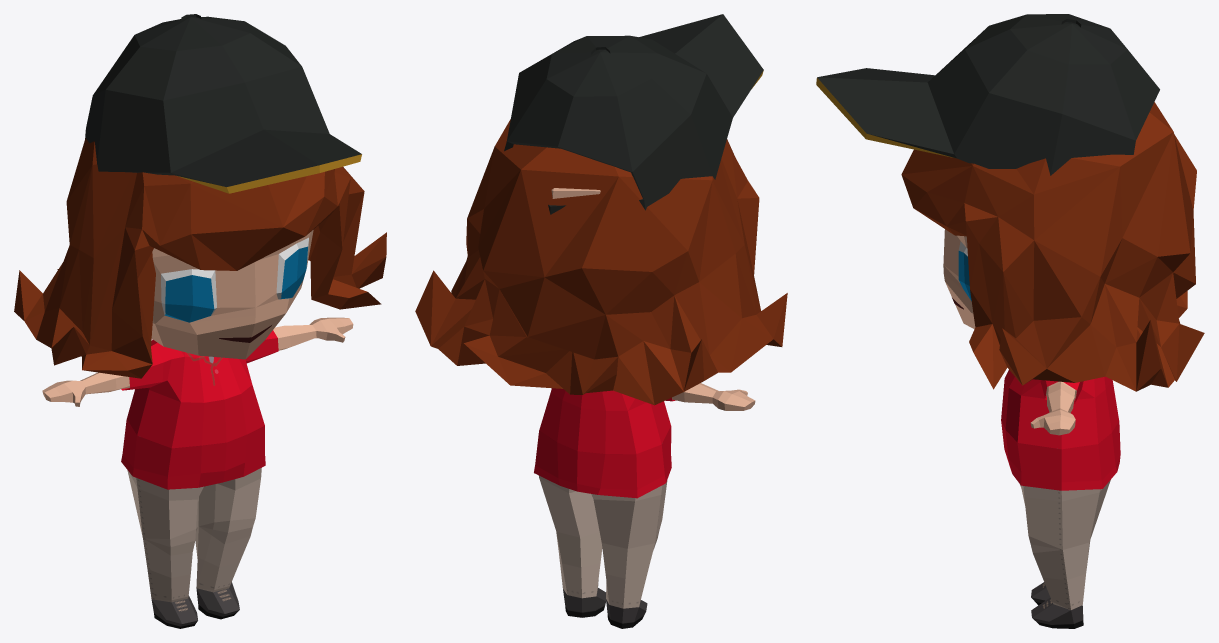
Rendered from Woman_Idle.fbx.
3 views of the same model, side by side, from view 1: azimuth 30°, elevation 25°; view 2: azimuth 150°, elevation 25°; view 3: azimuth 270°, elevation 25° (orthographic). The views are drawn at different scales.
Parts seen in each view (by area): view 1: Woman_hair, Woman_baseball_cap, Woman_clothing, Woman_body; view 2: Woman_hair, Woman_baseball_cap, Woman_clothing, Woman_body; view 3: Woman_hair, Woman_baseball_cap, Woman_clothing, Woman_body.
Part boxes in pixels (box(x1,y1,x2,y2)): Woman_hair: box(14, 138, 386, 378); Woman_baseball_cap: box(85, 14, 361, 193); Woman_clothing: box(121, 330, 278, 628); Woman_body: box(42, 230, 353, 406); Woman_hair: box(415, 119, 787, 405); Woman_baseball_cap: box(504, 14, 763, 214); Woman_clothing: box(534, 388, 675, 628); Woman_body: box(551, 188, 755, 410); Woman_hair: box(901, 102, 1204, 391); Woman_baseball_cap: box(816, 14, 1159, 175); Woman_clothing: box(1001, 370, 1120, 628); Woman_body: box(943, 229, 1076, 435).
Size of the model in its own units: 110 by 189 by 113.
